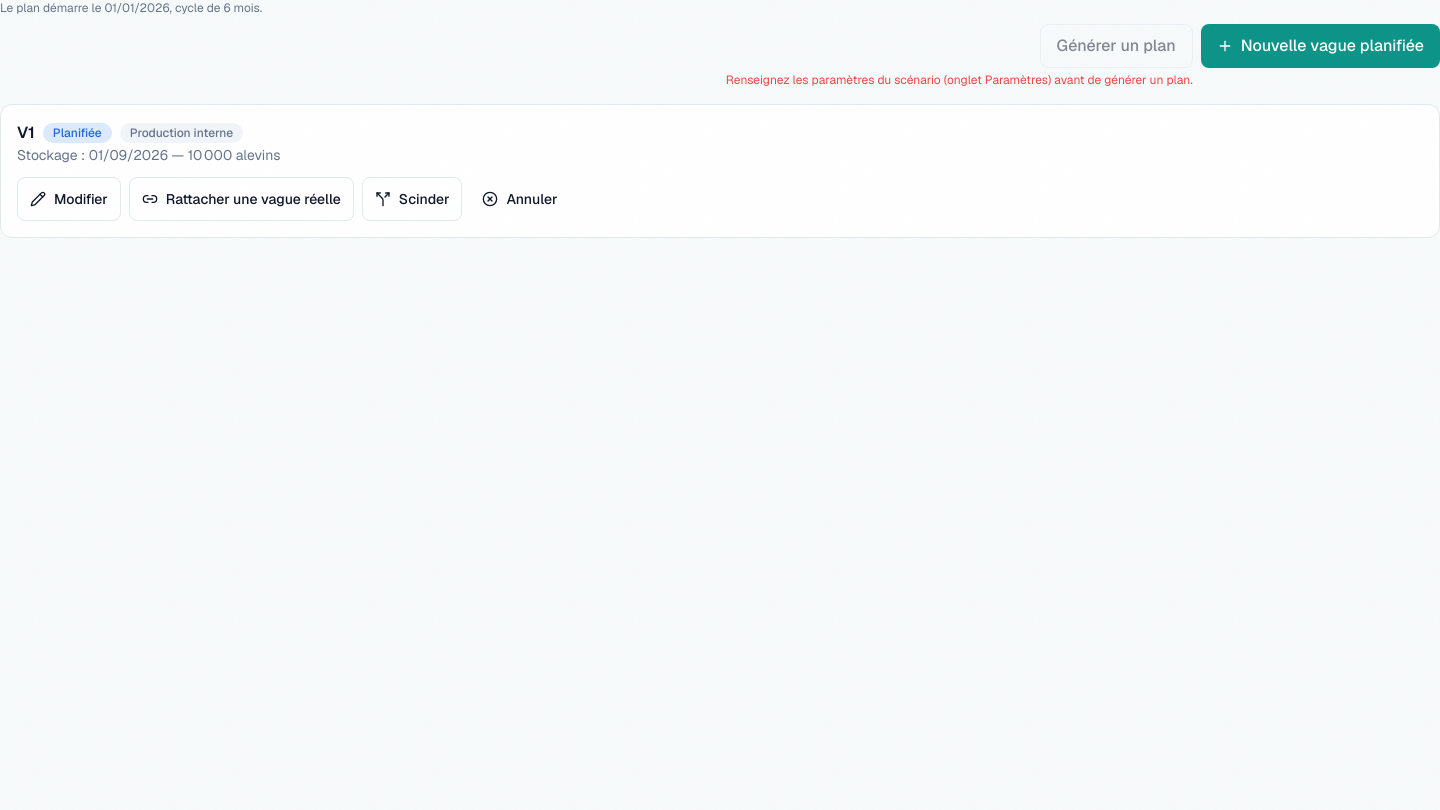
it: PlanVaguesTab — action Modifier sur une vague PLANIFIEE › est proposee et ouvre le dialogue d'edition pre-rempli
Click the button "Modifier" at (69, 199), box 17,177 -> 121,221
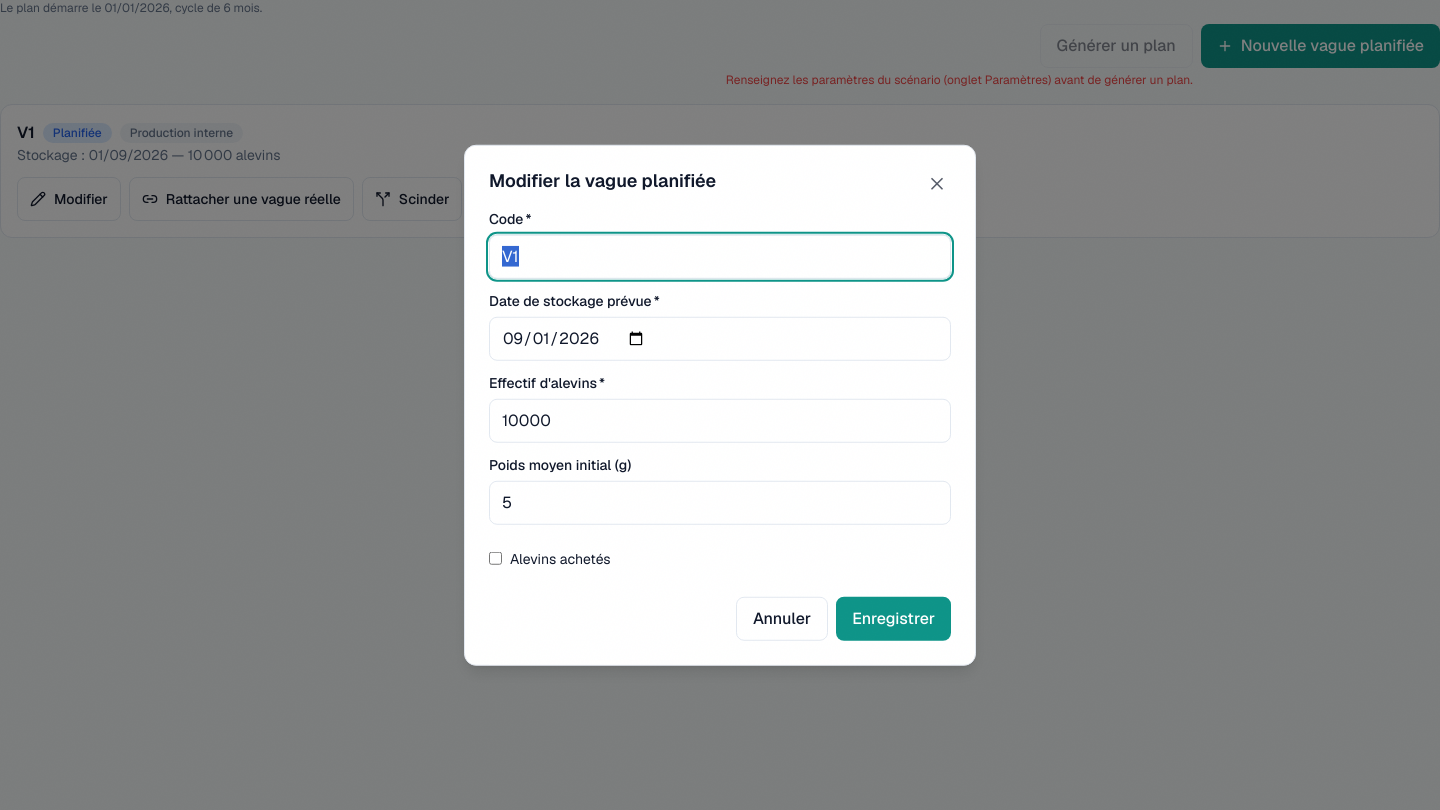
Check: the heading "Modifier la vague planifiée" is shown, box 489,169 -> 716,192
Check: the field labelled "Code*" holds "V1", box 489,234 -> 951,278
Check: the number field labelled "Effectif d'alevins*" holds "10000", box 489,398 -> 951,442
